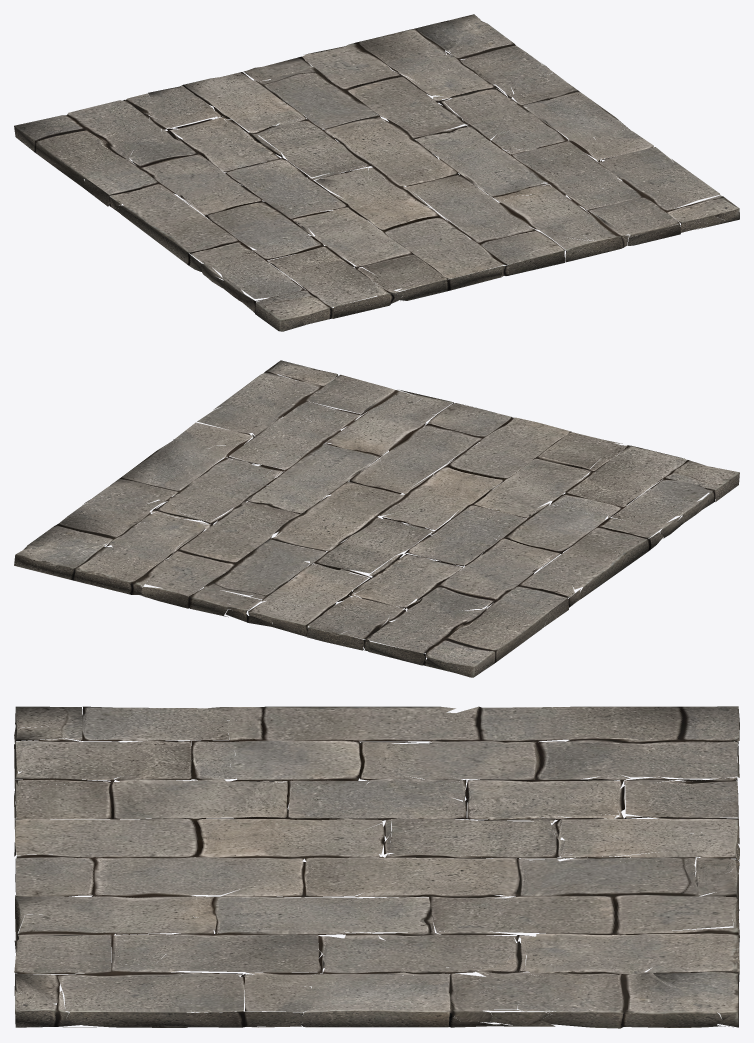
The model's file is kairox-plaza-paving.glb.
3 renders of one model, top to bottom at view 1: azimuth 30°, elevation 25°; view 2: azimuth 150°, elevation 25°; view 3: azimuth 270°, elevation 25°, orthographic. The views are drawn at different scales.
Parts seen in each view (by area): view 1: kairox-plaza-paving; view 2: kairox-plaza-paving; view 3: kairox-plaza-paving.
Part boxes in pixels (bbox=[...]): kairox-plaza-paving: bbox=[14, 14, 739, 331]; kairox-plaza-paving: bbox=[14, 360, 739, 677]; kairox-plaza-paving: bbox=[14, 706, 739, 1028].
Size of the model in its own units: 4 by 0.12 by 4.
1 material, 1 textured.
